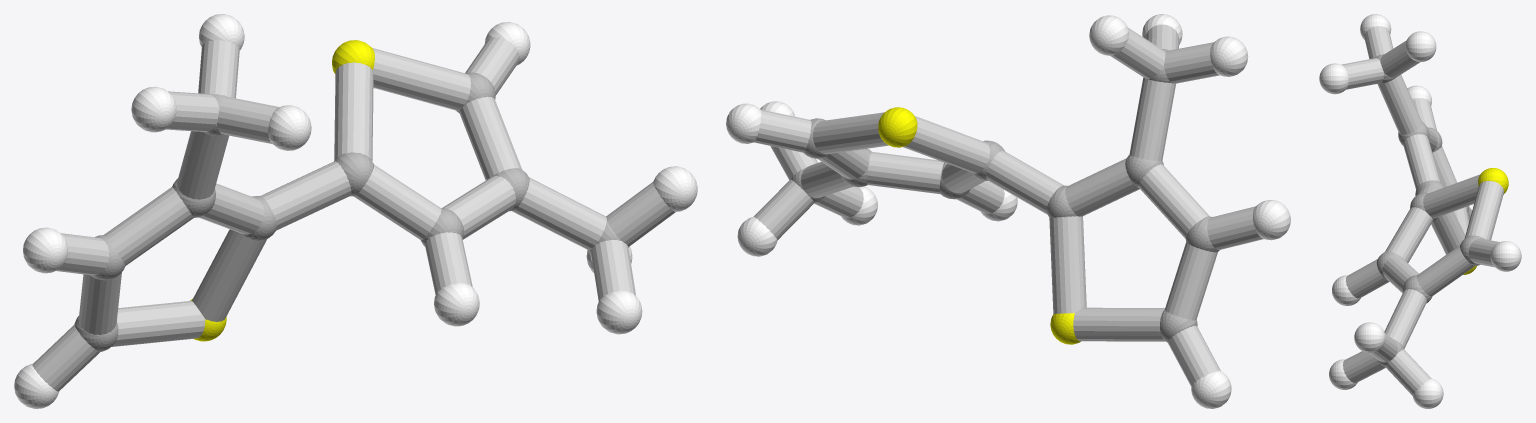
The model's file is Methylthiophene_Phi_25_Theta_290_Methylthiophene.glb.
3 renders of one model, left to right at view 1: azimuth 30°, elevation 25°; view 2: azimuth 150°, elevation 25°; view 3: azimuth 270°, elevation 25°, orthographic. The views are drawn at different scales.
Parts seen in each view (by area): view 1: grp7965, grp3621, grp1, grp7241; view 2: grp7965, grp3621, grp1, grp7241; view 3: grp7965, grp3621, grp1, grp7241.
Part boxes in pixels (box(x1,y1,x2,y2)): grp7965: box(32, 37, 675, 391); grp3621: box(14, 14, 697, 408); grp1: box(74, 72, 628, 351); grp7241: box(190, 40, 374, 341); grp7965: box(753, 24, 1263, 386); grp3621: box(726, 14, 1290, 408); grp1: box(790, 49, 1219, 342); grp7241: box(878, 107, 1080, 344); grp7965: box(1341, 26, 1503, 395); grp3621: box(1319, 14, 1521, 408); grp1: box(1374, 54, 1483, 366); grp7241: box(1463, 168, 1508, 274).
Bounding box in the file's own units: 9.58 × 5.47 × 3.9.
